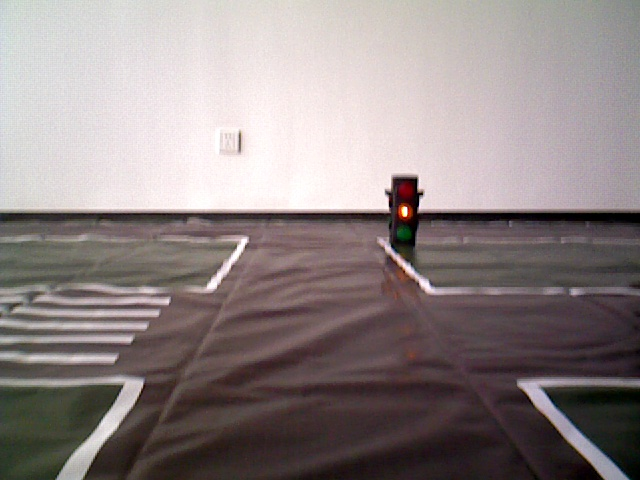yellow: (385, 172, 423, 253)
